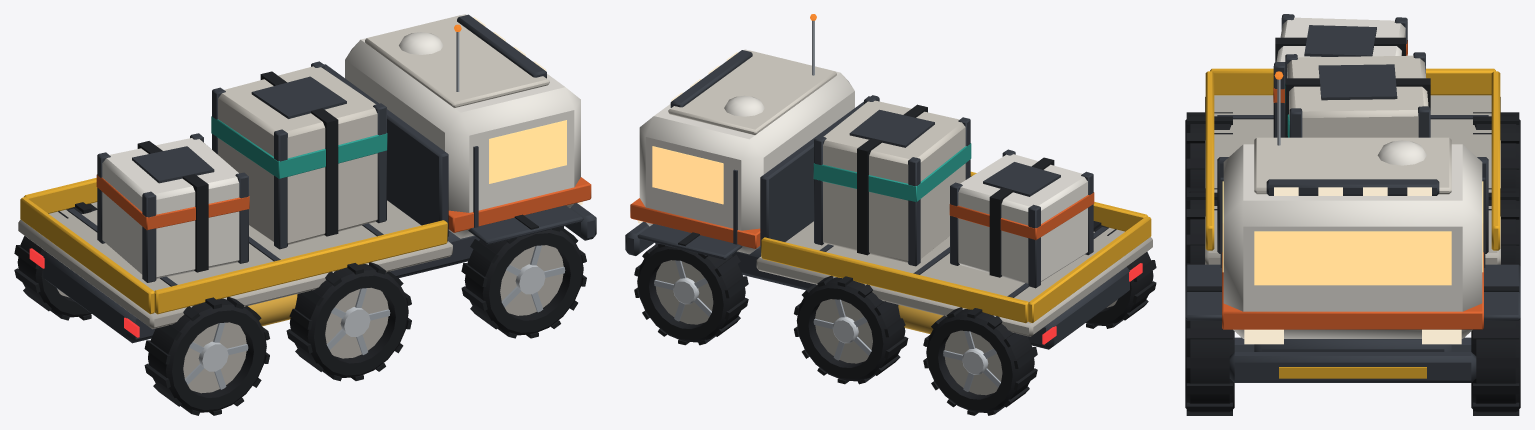
Rendered from cargo_rover.glb.
The picture shows the model from 3 angles, left to right: view 1: azimuth 30°, elevation 25°; view 2: azimuth 150°, elevation 25°; view 3: azimuth 270°, elevation 25°; orthographic projection. The views are drawn at different scales.
Parts seen in each view (by area): view 1: cargo_rover, spin_wheel_rr, spin_wheel_mr, spin_wheel_fr, spin_wheel_rl; view 2: cargo_rover, spin_wheel_rl, spin_wheel_ml, spin_wheel_fl, spin_wheel_rr; view 3: cargo_rover, spin_wheel_fl, spin_wheel_fr, spin_wheel_rl, spin_wheel_rr, spin_wheel_ml, spin_wheel_mr.
Part boxes in pixels (bbox=[...]): cargo_rover: bbox=[18, 14, 596, 343]; spin_wheel_rr: bbox=[144, 297, 269, 415]; spin_wheel_mr: bbox=[286, 262, 411, 381]; spin_wheel_fr: bbox=[461, 214, 586, 338]; spin_wheel_rl: bbox=[14, 202, 97, 320]; cargo_rover: bbox=[625, 14, 1152, 349]; spin_wheel_rl: bbox=[923, 307, 1037, 415]; spin_wheel_ml: bbox=[794, 275, 908, 384]; spin_wheel_fl: bbox=[634, 232, 748, 345]; spin_wheel_rr: bbox=[1086, 221, 1156, 328]; cargo_rover: bbox=[1185, 14, 1520, 382]; spin_wheel_fl: bbox=[1471, 286, 1520, 415]; spin_wheel_fr: bbox=[1185, 286, 1234, 415]; spin_wheel_rl: bbox=[1473, 112, 1520, 195]; spin_wheel_rr: bbox=[1185, 112, 1232, 195]; spin_wheel_ml: bbox=[1488, 188, 1520, 265]; spin_wheel_mr: bbox=[1185, 188, 1217, 265].
Bounding box in the file's own units: 2.37 × 1.43 × 1.36.
